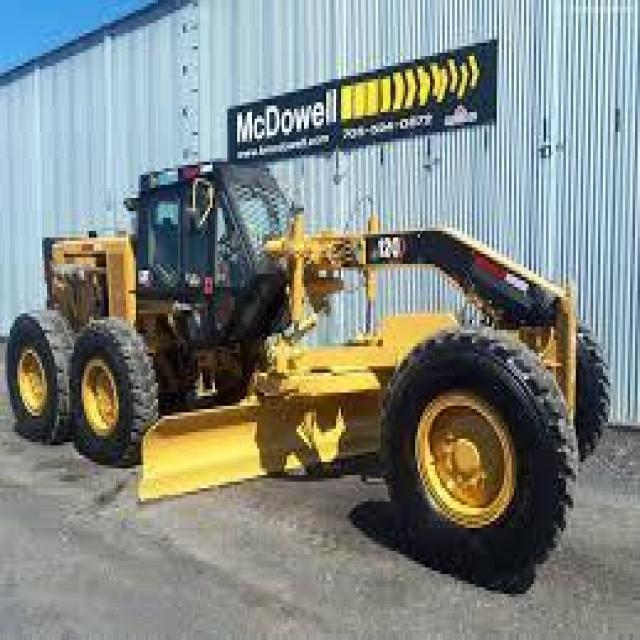Grader: (10, 135, 613, 600)
